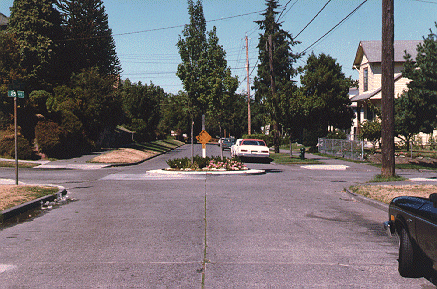plants: (2, 1, 117, 156), (176, 1, 235, 115), (252, 1, 296, 127), (298, 51, 346, 154), (401, 28, 437, 148), (122, 81, 176, 133)
